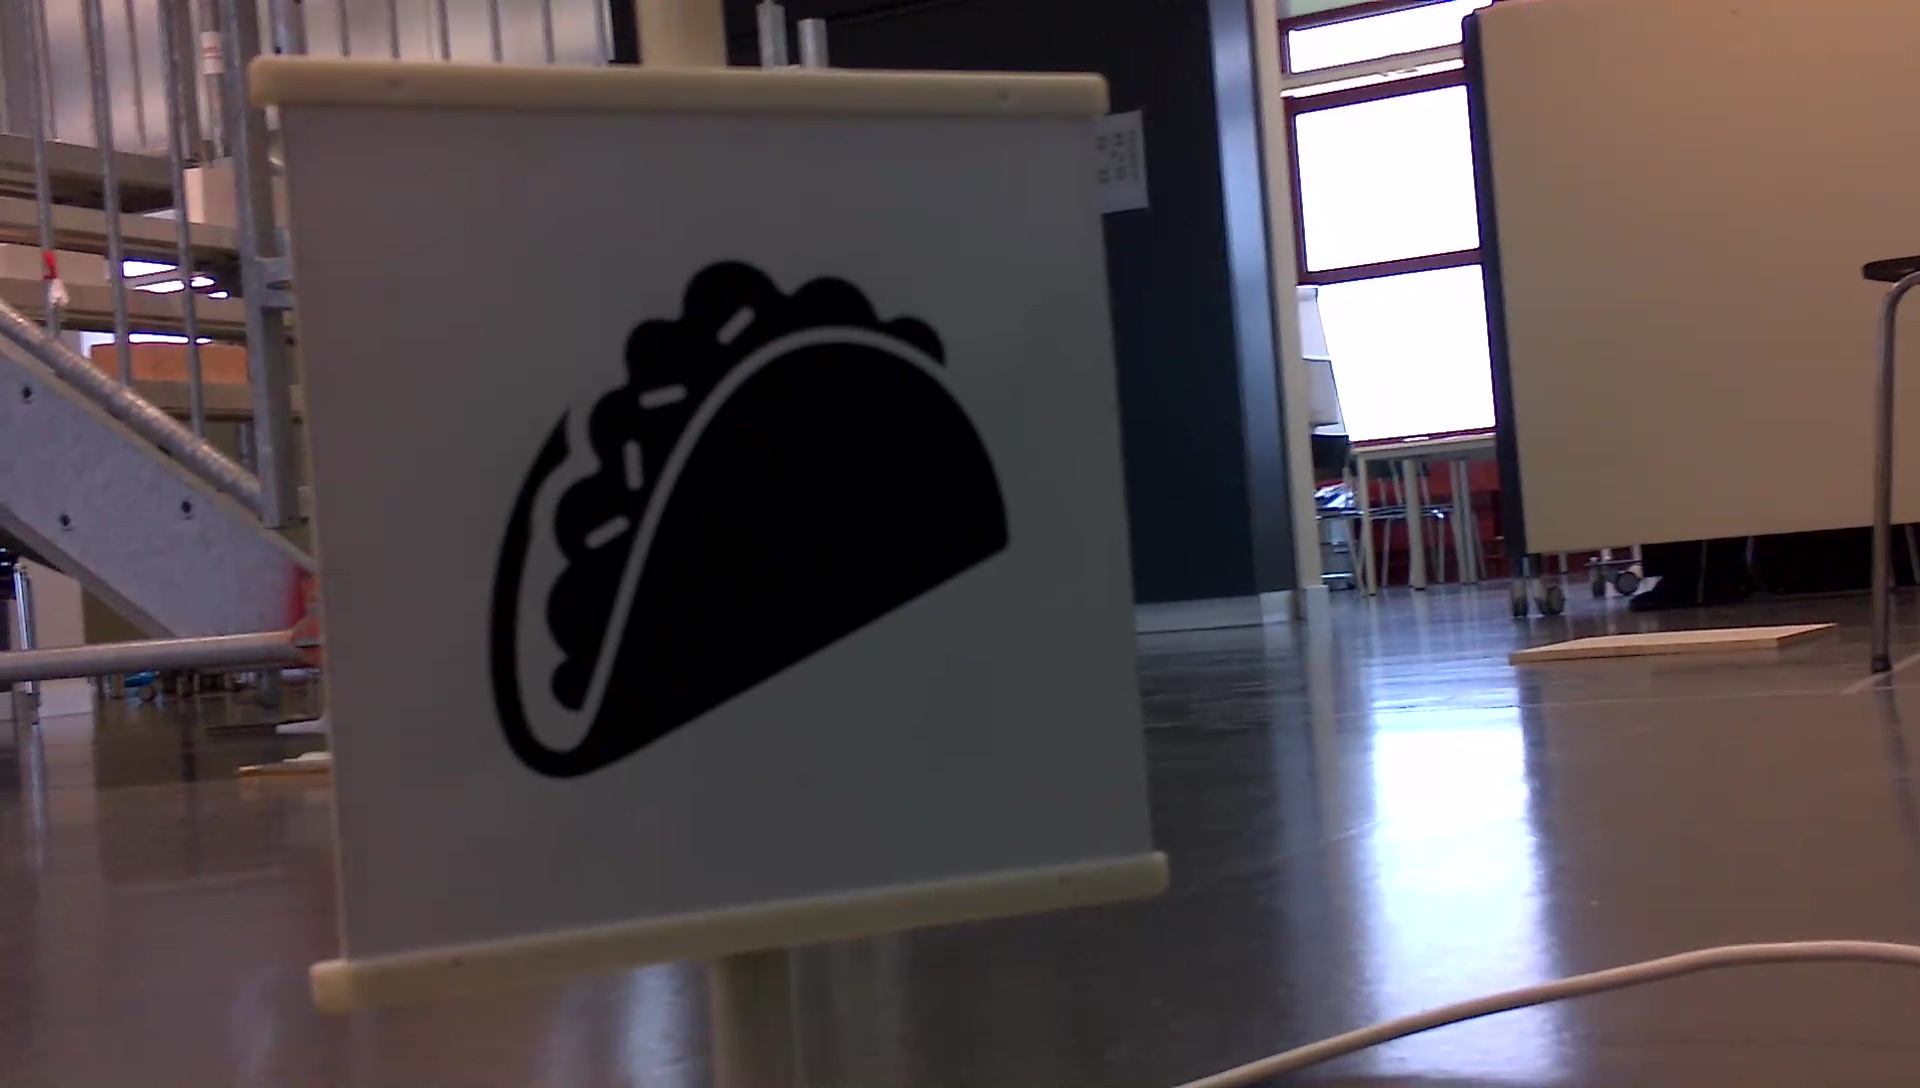taco: (471, 249, 1022, 789)
